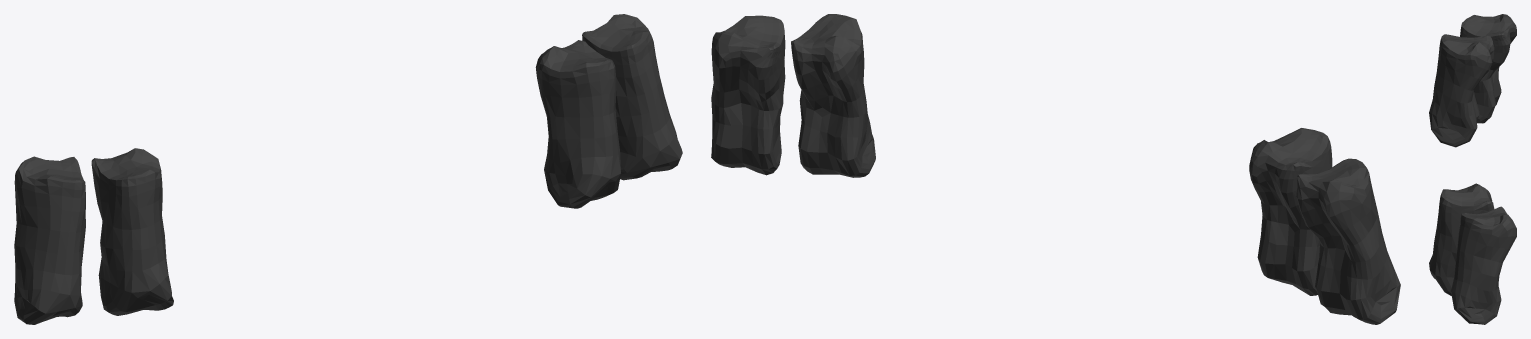
3 renders of one model, left to right at view 1: azimuth 30°, elevation 25°; view 2: azimuth 150°, elevation 25°; view 3: azimuth 270°, elevation 25°, orthographic. The views are drawn at different scales.
Visible parts, largest first — view 1: b_HL_P1_L_LO; view 2: b_HL_P1_L_LO; view 3: b_HL_P1_L_LO.
Part boxes in pixels (x1=…): b_HL_P1_L_LO: x1=14, y1=14, x2=682, y2=324; b_HL_P1_L_LO: x1=711, y1=14, x2=1400, y2=324; b_HL_P1_L_LO: x1=1429, y1=14, x2=1516, y2=324.
Bounding box in the file's own units: 0.00371 × 0.000803 × 0.000618.
Materials: 1 (1 with a texture image).
